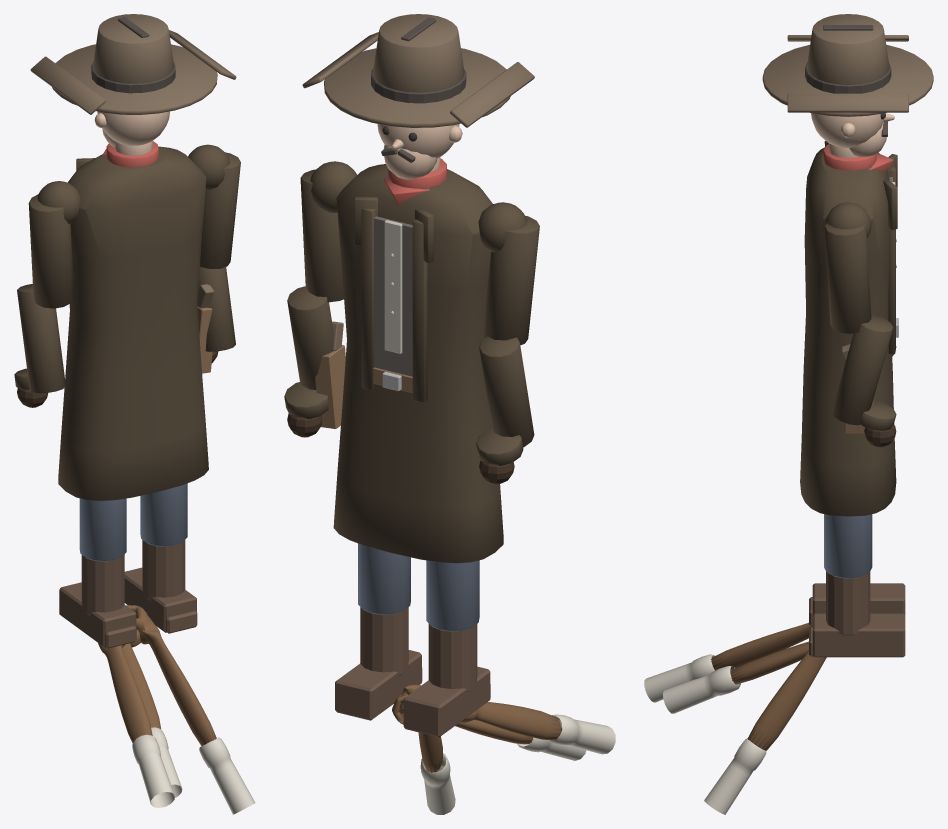
File: cowboy.glb
3 views of the same model, side by side, from view 1: azimuth 30°, elevation 25°; view 2: azimuth 150°, elevation 25°; view 3: azimuth 270°, elevation 25° (orthographic). The views are drawn at different scales.
Visible parts, largest first — view 1: CowboyBody, CowboyHead, CowboyLegL, CowboyLegR, HandGripArm, HandLoad, HandSupport, HandGrip; view 2: CowboyBody, CowboyHead, CowboyLegL, CowboyLegR, HandLoad, HandGripArm, HandSupport; view 3: CowboyBody, CowboyHead, CowboyLegR, HandGripArm, HandLoad, HandSupport, CowboyLegL.
Part boxes in pixels (x1,y1,x2,y2): CowboyBody: (14, 141, 240, 500); CowboyHead: (30, 14, 236, 146); CowboyLegL: (59, 498, 136, 648); CowboyLegR: (124, 483, 197, 633); HandGripArm: (150, 638, 255, 814); HandLoad: (98, 643, 174, 807); HandSupport: (122, 605, 182, 797); HandGrip: (127, 605, 161, 644); CowboyBody: (284, 157, 539, 563); CowboyHead: (302, 14, 534, 179); CowboyLegL: (403, 560, 490, 737); CowboyLegR: (335, 543, 422, 720); HandLoad: (460, 702, 615, 754); HandGripArm: (418, 732, 455, 814); HandSupport: (392, 694, 586, 760); CowboyBody: (800, 140, 898, 516); CowboyHead: (762, 14, 933, 156); CowboyLegR: (809, 514, 905, 657); HandGripArm: (704, 650, 826, 814); HandLoad: (644, 622, 812, 702); HandSupport: (663, 641, 808, 713); CowboyLegL: (809, 583, 905, 626).
Bounding box in the file's own units: 0.6808 × 2.37 × 0.8119.
